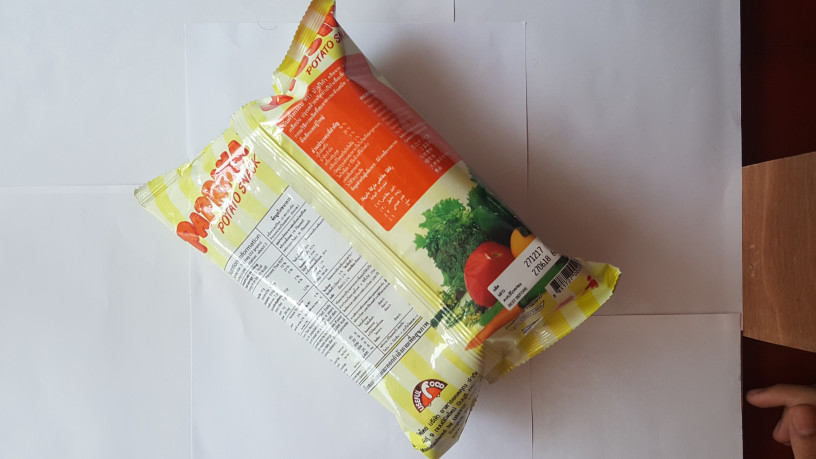paprika: (123, 1, 629, 456)
